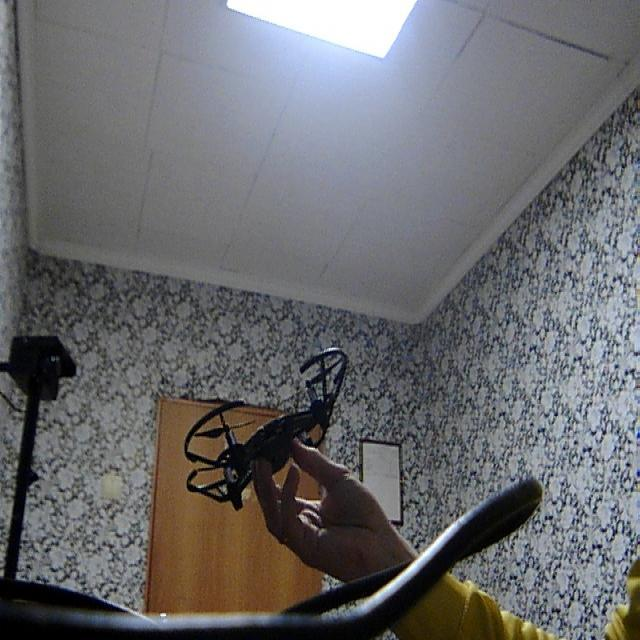drone: (174, 339, 352, 517)
